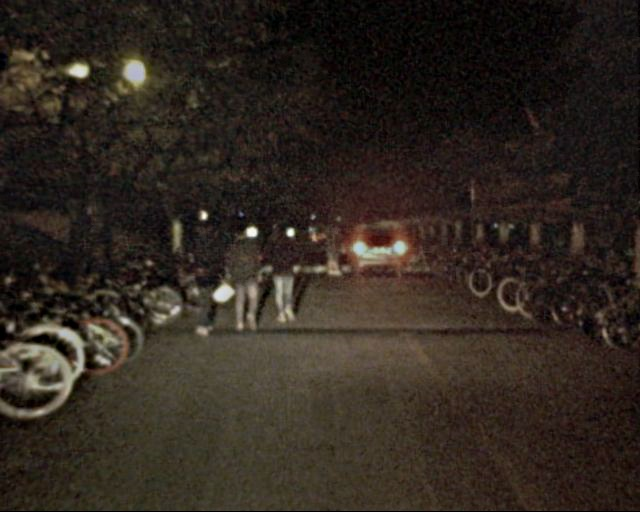person: (190, 211, 229, 332), (265, 215, 300, 327), (232, 227, 264, 332), (321, 226, 344, 274)
